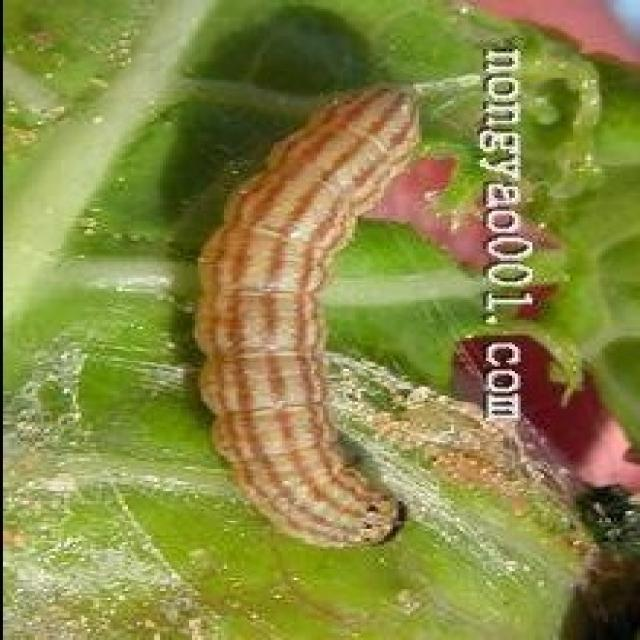peach borer: (184, 86, 429, 557)
